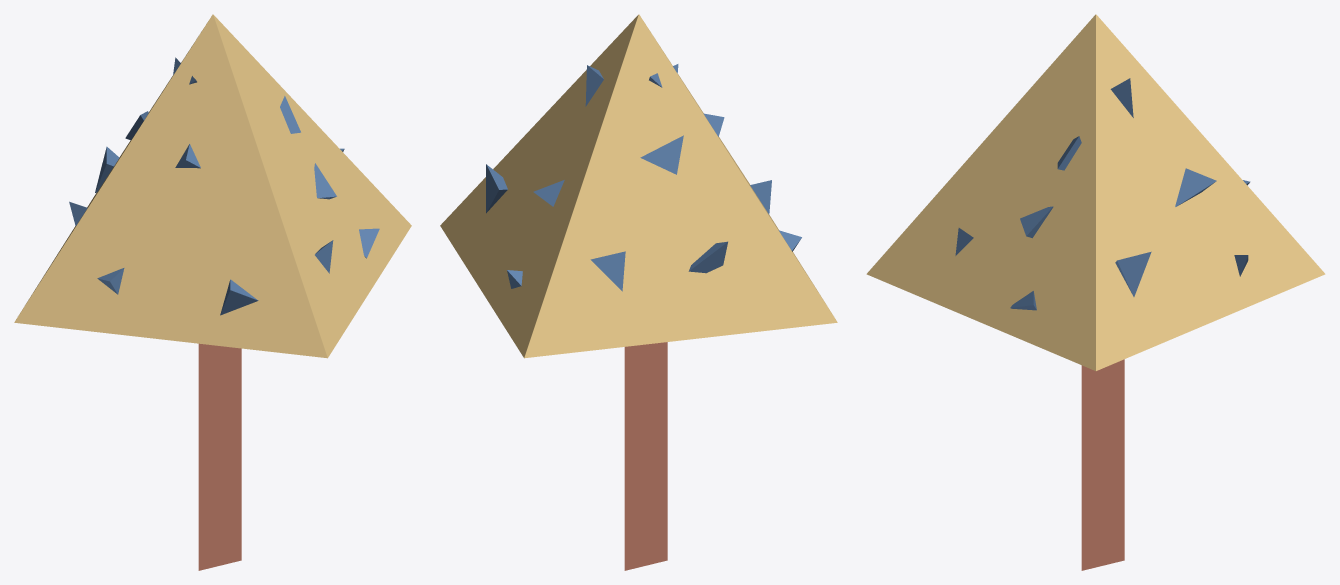
The model's file is Anacia Tree.fbx.
3 views of the same model, side by side, from view 1: azimuth 30°, elevation 25°; view 2: azimuth 150°, elevation 25°; view 3: azimuth 270°, elevation 25° (orthographic).
Parts seen in each view (by area): view 1: Anacia Tree Leaves, Anacia Tree Trunk, Anacia Tree Fruits; view 2: Anacia Tree Leaves, Anacia Tree Trunk, Anacia Tree Fruits; view 3: Anacia Tree Leaves, Anacia Tree Trunk, Anacia Tree Fruits.
Part boxes in pixels (x1,y1,x2,y2): Anacia Tree Leaves: (14,14,411,358); Anacia Tree Trunk: (198,343,241,570); Anacia Tree Fruits: (69,57,379,315); Anacia Tree Leaves: (440,14,837,358); Anacia Tree Trunk: (624,342,667,570); Anacia Tree Fruits: (486,64,801,291); Anacia Tree Leaves: (866,14,1325,370); Anacia Tree Trunk: (1081,359,1124,570); Anacia Tree Fruits: (955,78,1250,310).
Bounding box in the file's own units: 120 × 158 × 120.
